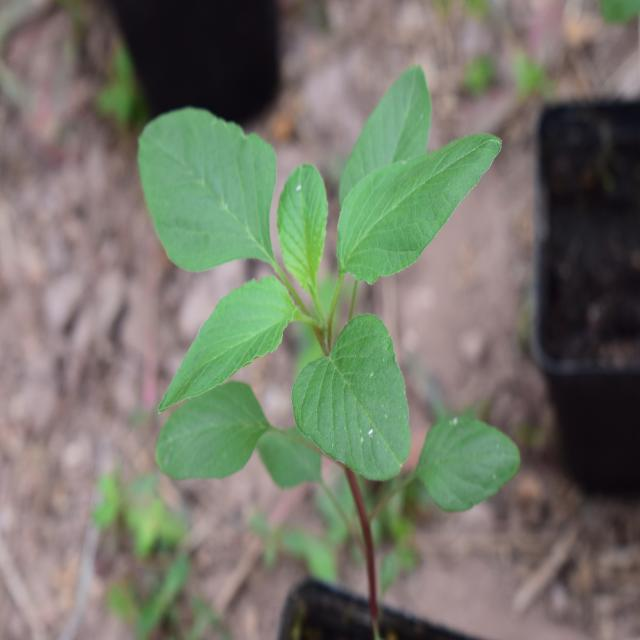pigweed: (124, 79, 520, 562)
